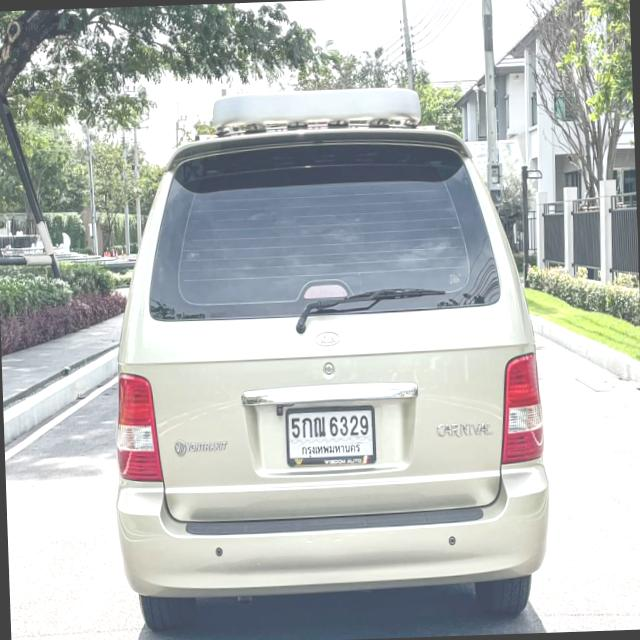license_plate: (284, 401, 382, 472)
